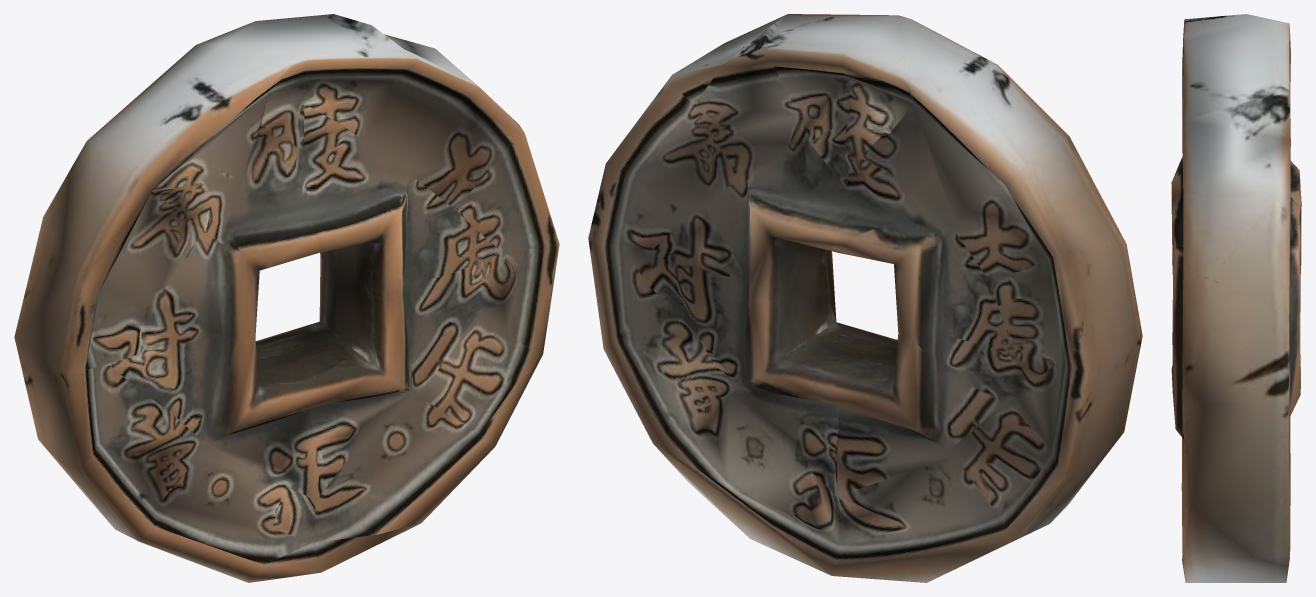
Rendered from coin.glb.
3 views of the same model, side by side, from view 1: azimuth 30°, elevation 25°; view 2: azimuth 150°, elevation 25°; view 3: azimuth 270°, elevation 25° (orthographic). The views are drawn at different scales.
Bounding box in the file's own units: 1.86 × 1.86 × 0.4288.
1 material, 1 textured.
